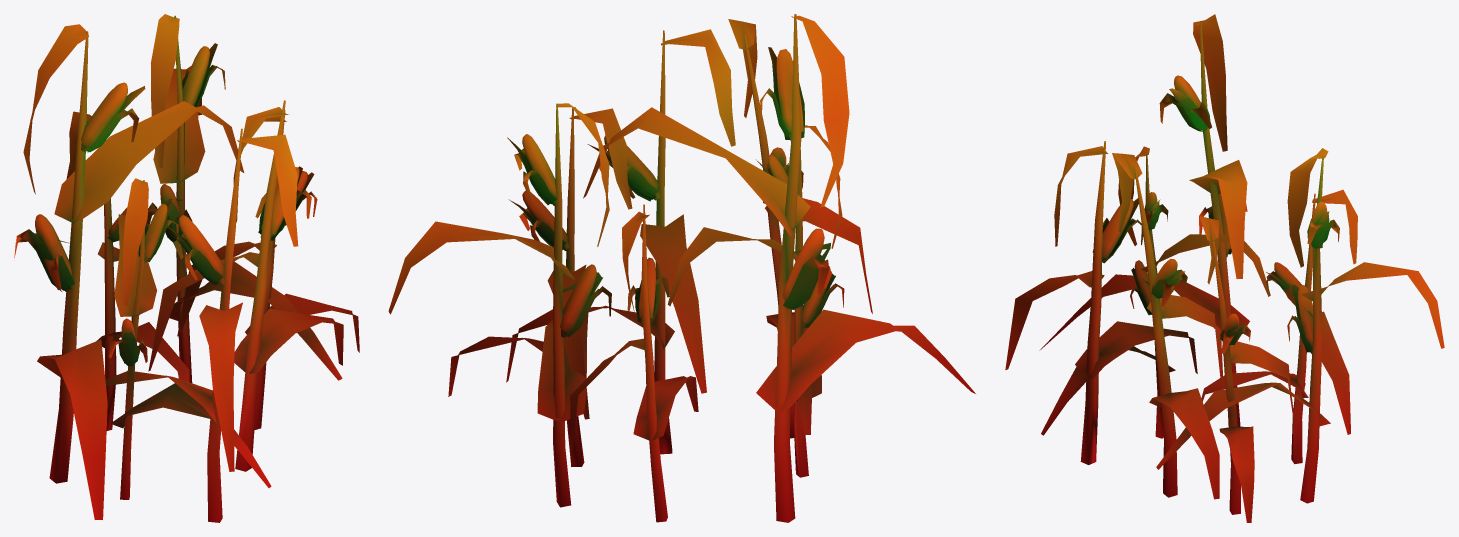
File: SM_Corn_4.fbx
The picture shows the model from 3 angles, left to right: view 1: azimuth 30°, elevation 25°; view 2: azimuth 150°, elevation 25°; view 3: azimuth 270°, elevation 25°; orthographic projection. The views are drawn at different scales.
Visible parts, largest first — view 1: SM_Corn_4; view 2: SM_Corn_4; view 3: SM_Corn_4.
Part boxes in pixels (box(x1,y1,x2,y2)): SM_Corn_4: box(14, 14, 359, 522); SM_Corn_4: box(388, 14, 975, 522); SM_Corn_4: box(1005, 14, 1444, 522).
Bounding box in the file's own units: 1.79 × 2.09 × 2.
